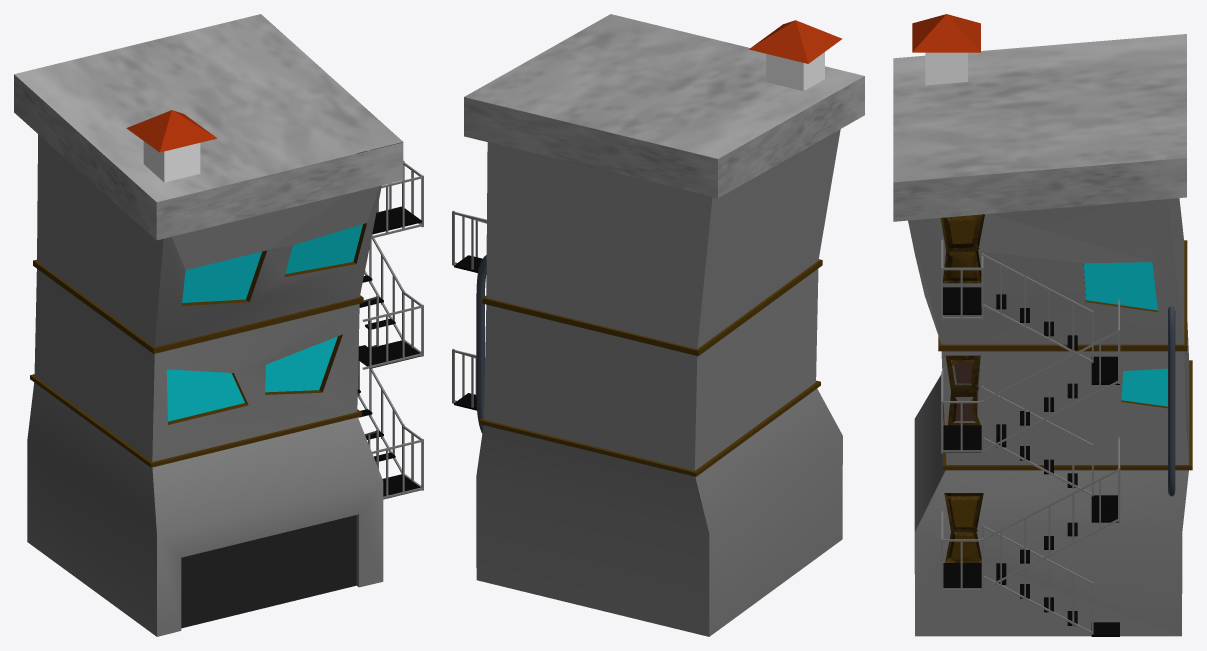
Rendered from PredioTorto-CinzaLOD0.fbx.
3 renders of one model, left to right at view 1: azimuth 30°, elevation 25°; view 2: azimuth 150°, elevation 25°; view 3: azimuth 270°, elevation 25°, orthographic. The views are drawn at different scales.
Visible parts, largest first — view 1: Predio3Andares; view 2: Predio3Andares; view 3: Predio3Andares.
Boxes of the visible parts, x1,y1,x2,y2 form: Predio3Andares: (14,14,423,636); Predio3Andares: (452,14,864,636); Predio3Andares: (893,14,1192,636).
Size of the model in its own units: 1035 by 1727 by 895.
